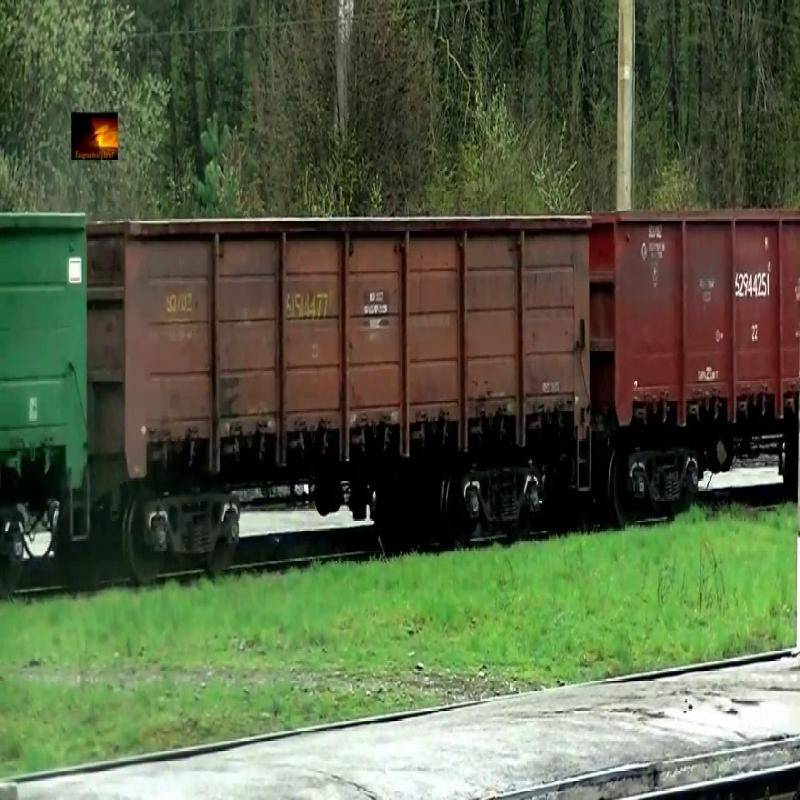train: (86, 215, 593, 484), (593, 210, 800, 432), (1, 213, 87, 497)
